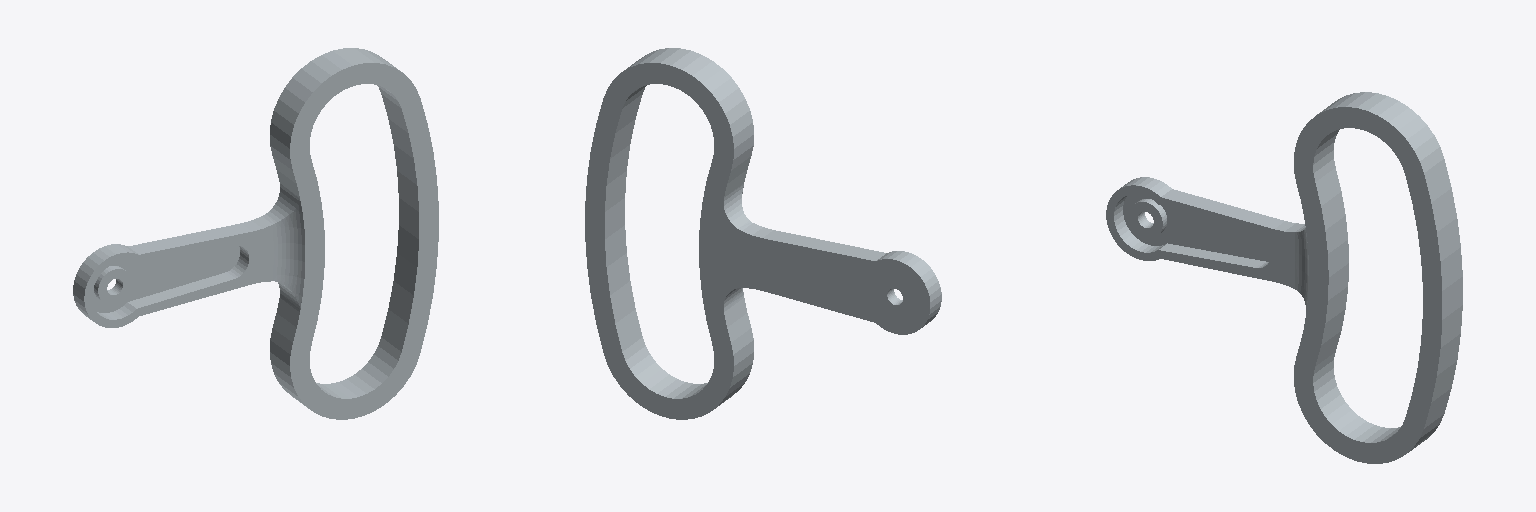
Rendered from tinker.obj.
The picture shows the model from 3 angles: view 1: azimuth 30°, elevation 25°; view 2: azimuth 150°, elevation 25°; view 3: azimuth 330°, elevation 25°; orthographic projection.
Parts seen in each view (by area): view 1: obj_0; view 2: obj_0; view 3: obj_0.
Part boxes in pixels (bbox=[...]): obj_0: bbox=[73, 48, 438, 419]; obj_0: bbox=[585, 48, 941, 419]; obj_0: bbox=[1106, 92, 1462, 463].
Bounding box in the file's own units: 43.95 × 42.97 × 4.5.